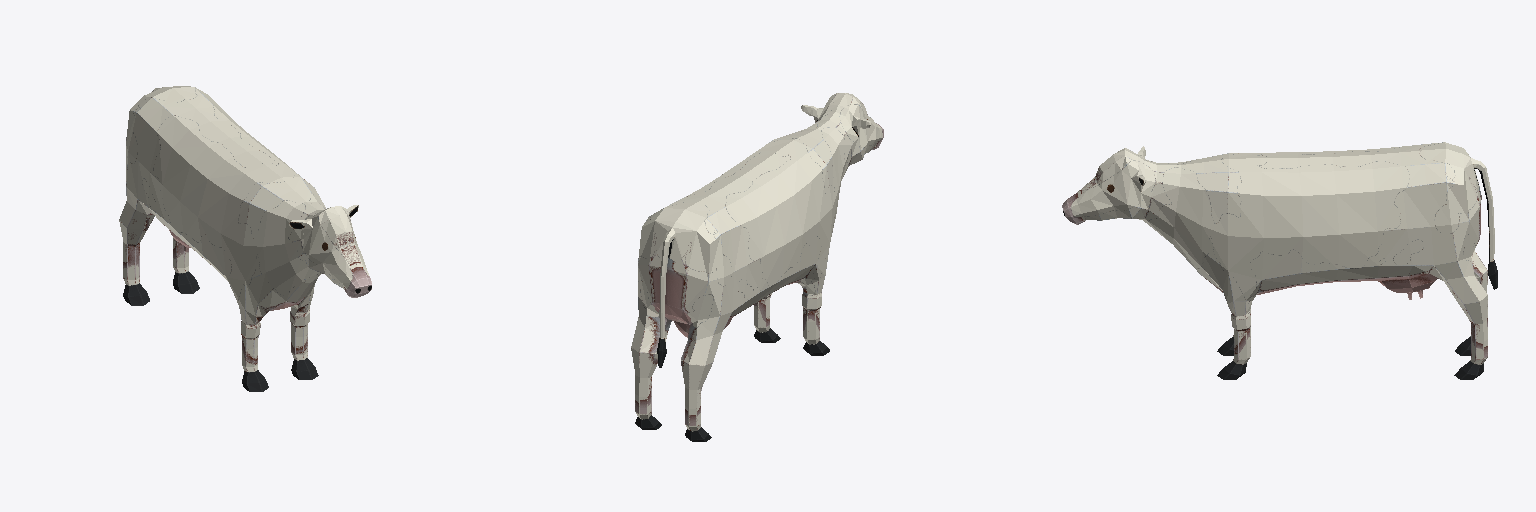
3 views of the same model, side by side, from view 1: azimuth 30°, elevation 25°; view 2: azimuth 150°, elevation 25°; view 3: azimuth 270°, elevation 25° (orthographic).
Parts seen in each view (by area): view 1: Cow_mesh; view 2: Cow_mesh; view 3: Cow_mesh.
Boxes of the visible parts, box(x1,y1,x2,y2) form: Cow_mesh: box(119, 86, 371, 391); Cow_mesh: box(631, 93, 883, 441); Cow_mesh: box(1062, 142, 1497, 379).
Size of the model in its own units: 3.36 by 7.42 by 13.65.
Materials: 1 (1 with a texture image).